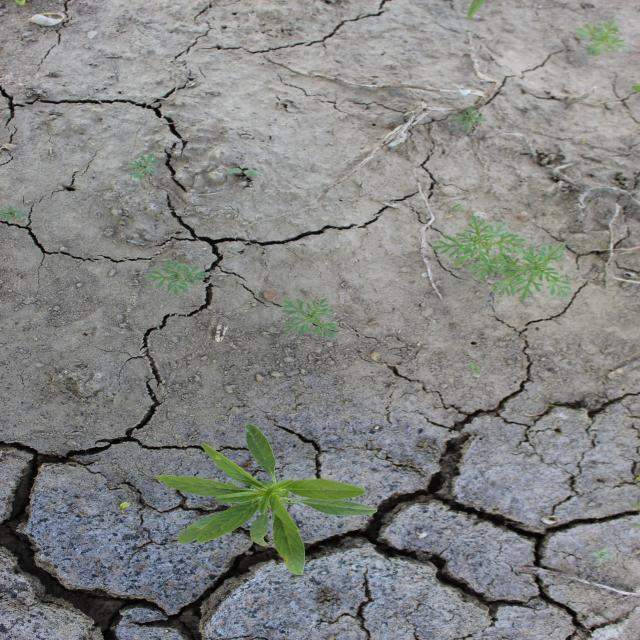Ragweed: (428, 210, 574, 304), (139, 255, 212, 297), (277, 295, 343, 341), (573, 18, 629, 56)
Waterhemp: (151, 422, 380, 578)
